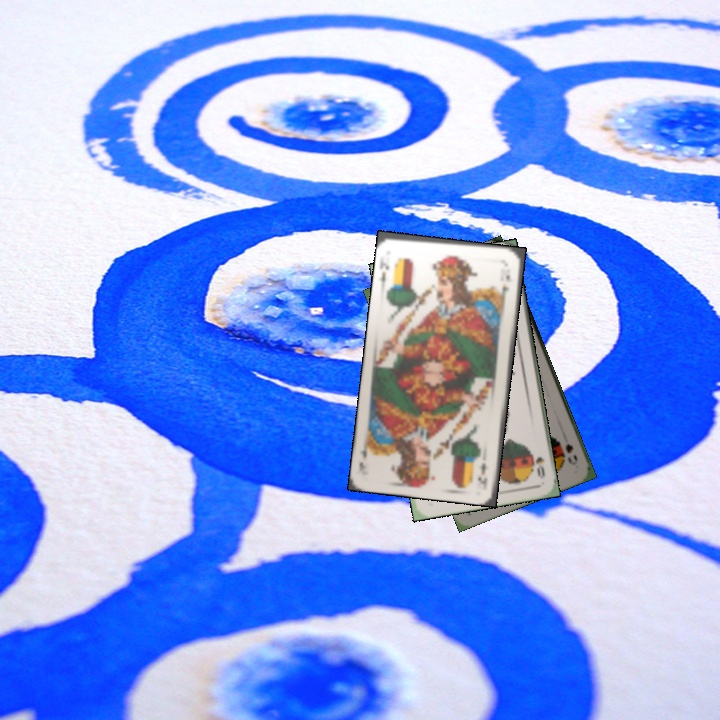EK: (376, 253, 391, 288), (474, 458, 490, 489)
SO: (528, 450, 547, 481), (561, 439, 580, 468)
